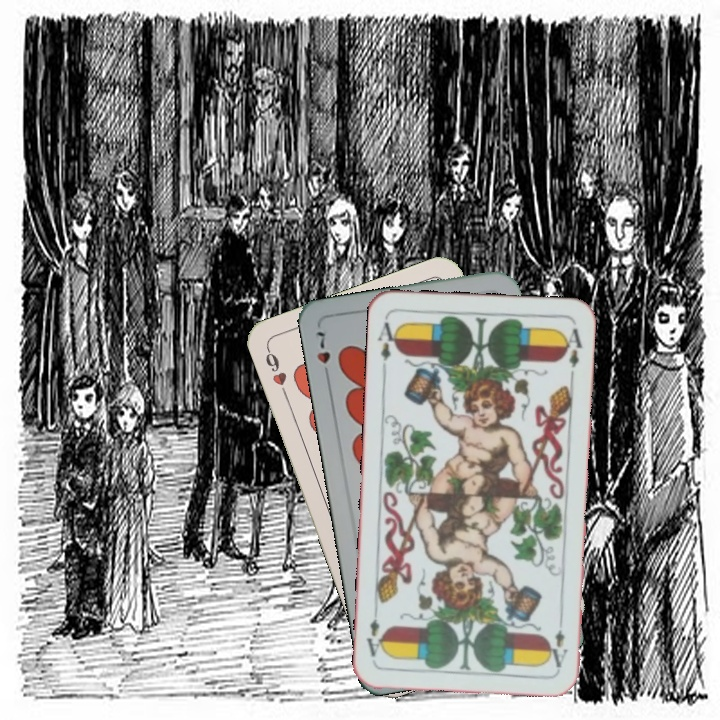EA: (374, 318, 401, 373), (545, 612, 570, 670)
H7: (312, 327, 333, 383)
H9: (261, 344, 291, 401)
